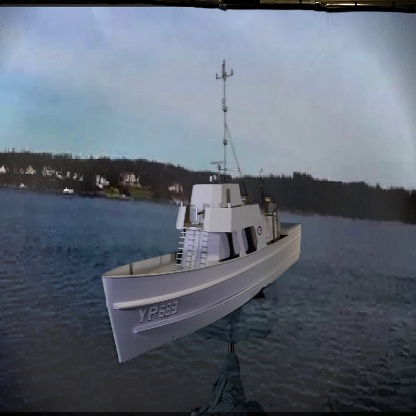YP689: (101, 61, 303, 365)
